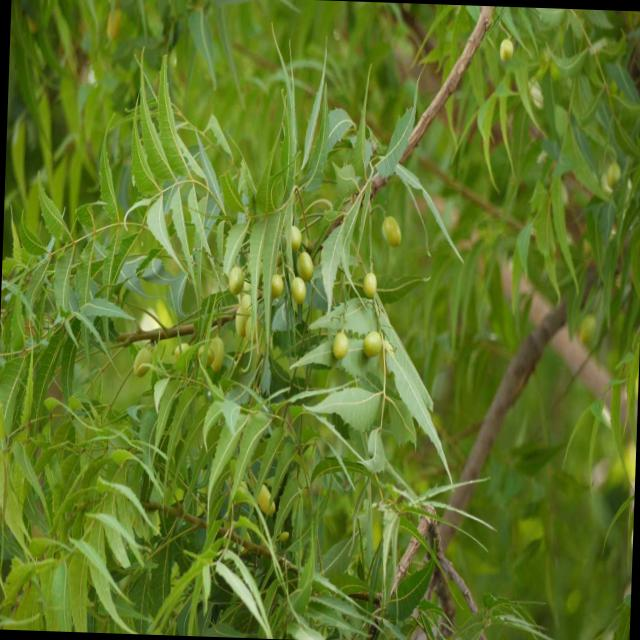Medicinal-Neem: (0, 39, 433, 640)
